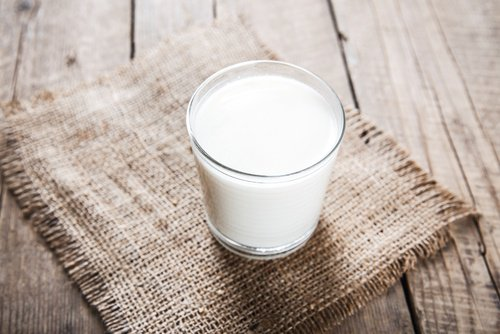glass of milk: (186, 61, 345, 255)
